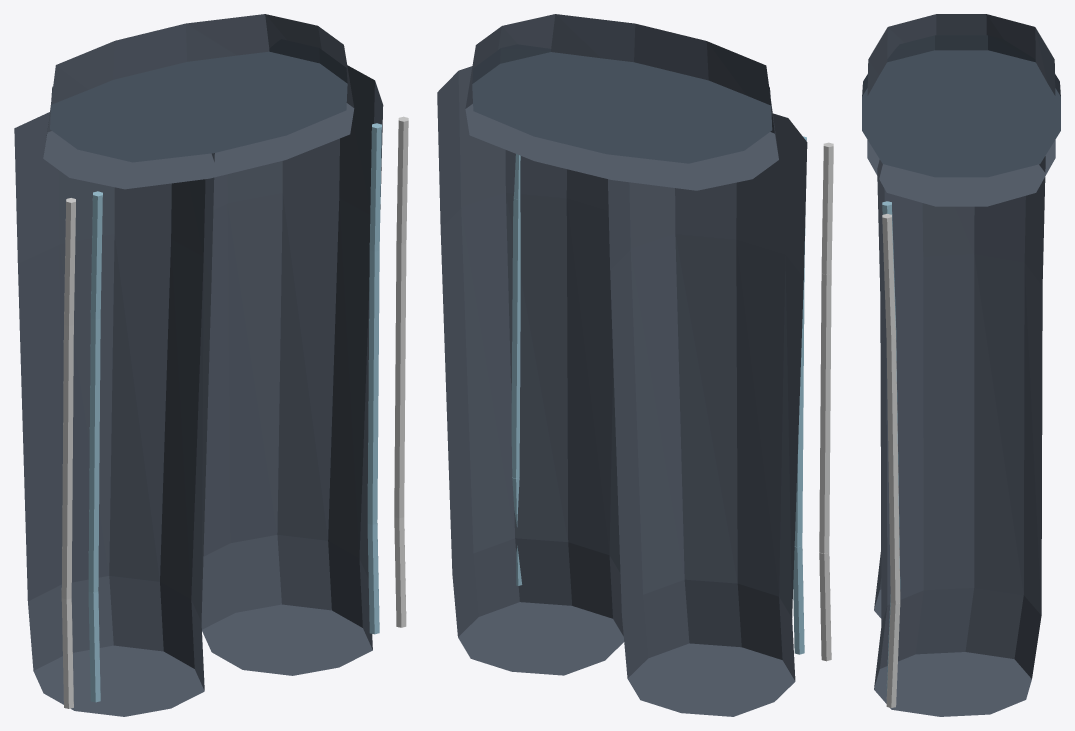
The model's file is bottom_track.glb.
3 views of the same model, side by side, from view 1: azimuth 30°, elevation 25°; view 2: azimuth 150°, elevation 25°; view 3: azimuth 270°, elevation 25° (orthographic). The views are drawn at different scales.
Parts seen in each view (by area): view 1: bottom_track_Leg_R, bottom_track_Leg_L, bottom_track_ElasticWaist, bottom_track_Waist, bottom_track_Stripe_L, bottom_track_Stripe_R; view 2: bottom_track_Leg_R, bottom_track_Leg_L, bottom_track_ElasticWaist, bottom_track_Waist, bottom_track_Stripe_R, bottom_track_Stripe_L; view 3: bottom_track_Leg_L, bottom_track_ElasticWaist, bottom_track_Waist, bottom_track_Stripe_L, bottom_track_Leg_R.
Boxes of the visible parts, bbox=[...] form: bottom_track_Leg_R: bbox=[14, 112, 214, 716]; bottom_track_Leg_L: bbox=[201, 65, 383, 675]; bottom_track_ElasticWaist: bbox=[50, 39, 347, 162]; bottom_track_Waist: bbox=[43, 14, 354, 189]; bottom_track_Stripe_L: bbox=[367, 116, 408, 634]; bottom_track_Stripe_R: bbox=[61, 191, 102, 708]; bottom_track_Leg_R: bbox=[608, 113, 807, 716]; bottom_track_Leg_L: bbox=[437, 66, 624, 675]; bottom_track_ElasticWaist: bbox=[472, 44, 772, 163]; bottom_track_Waist: bbox=[465, 14, 778, 190]; bottom_track_Stripe_R: bbox=[793, 136, 833, 661]; bottom_track_Stripe_L: bbox=[511, 154, 522, 585]; bottom_track_Leg_L: bbox=[874, 156, 1045, 716]; bottom_track_ElasticWaist: bbox=[862, 35, 1060, 177]; bottom_track_Waist: bbox=[867, 14, 1055, 206]; bottom_track_Stripe_L: bbox=[882, 201, 900, 707]; bottom_track_Leg_R: bbox=[874, 550, 881, 618].
Bounding box in the file's own units: 0.3584 × 0.59 × 0.1871.
